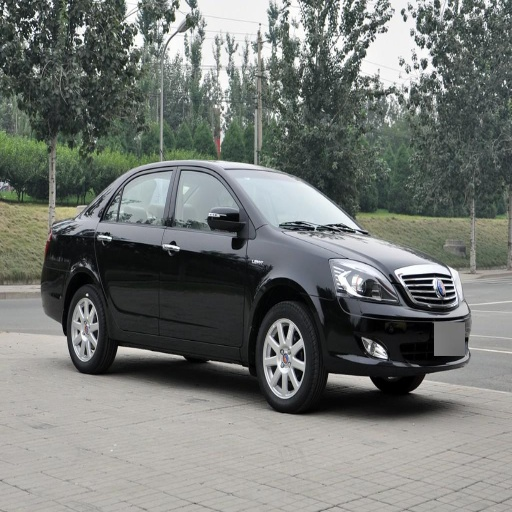front_bumper: (319, 275, 472, 376)
front_right_door: (160, 167, 248, 347)
front_right_light: (331, 257, 397, 302)
